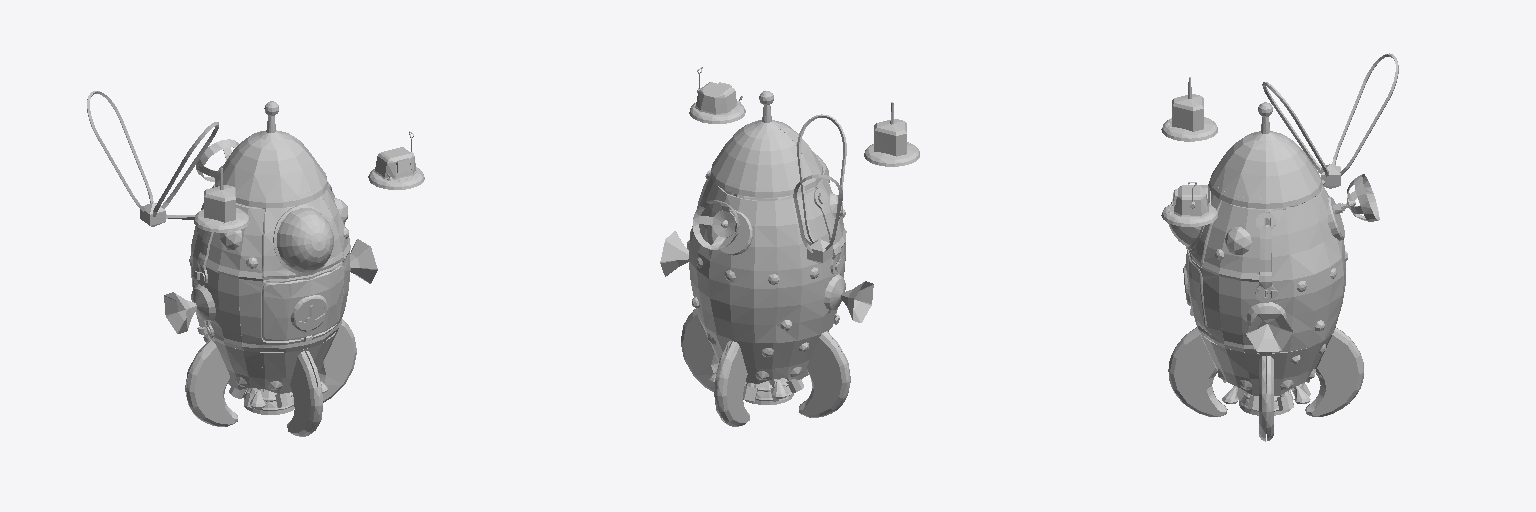
Rendered from S.S. Dolphin.obj.
The picture shows the model from 3 angles: view 1: azimuth 30°, elevation 25°; view 2: azimuth 150°, elevation 25°; view 3: azimuth 270°, elevation 25°; orthographic projection.
Visible parts, largest first — view 1: S.S._Dolphin_Bowsprit_3, S.S._Dolphin_part.007, S.S._Dolphin_part.010, S.S._Dolphin_part.003, S.S._Dolphin_part.009, S.S._Dolphin_Omega_Stablizer, S.S._Dolphin_Radiation_Canopy, S.S._Dolphin_part.005, S.S._Dolphin_part.006, S.S._Dolphin_part.002, S.S._Dolphin_Interstellar_Radio, S.S._Dolphin_Ionium_Jet_1 (+12 smaller); view 2: S.S._Dolphin_part.004, S.S._Dolphin_part.010, S.S._Dolphin_Bowsprit_4.001, S.S._Dolphin_Omega_Stablizer, S.S._Dolphin_Interstellar_Radio, S.S._Dolphin_Ionium_Jet_1, S.S._Dolphin_Whimsical_Radar_5, S.S._Dolphin_Guard_Satellite_2, S.S._Dolphin_part.000, S.S._Dolphin_Ionium_jet_2, S.S._Dolphin_part.037, S.S._Dolphin_Whimsical_Radar_1 (+5 smaller); view 3: S.S._Dolphin_part.004, S.S._Dolphin_part.010, S.S._Dolphin_part.003, S.S._Dolphin_Bowsprit_3, S.S._Dolphin_part.009, S.S._Dolphin_Bowsprit_4.001, S.S._Dolphin_part.005, S.S._Dolphin_Ionium_jet_2, S.S._Dolphin_Interstellar_Radio, S.S._Dolphin_part.000, S.S._Dolphin_part.006, S.S._Dolphin_Guard_Satellite_2 (+9 smaller).
Boxes of the visible parts, <box> form: S.S._Dolphin_Bowsprit_3: <box>226,133,324,198</box>; S.S._Dolphin_part.007: <box>262,266,344,340</box>; S.S._Dolphin_part.010: <box>203,325,354,432</box>; S.S._Dolphin_part.003: <box>205,186,350,281</box>; S.S._Dolphin_part.009: <box>226,319,356,436</box>; S.S._Dolphin_Omega_Stablizer: <box>185,340,237,426</box>; S.S._Dolphin_Radiation_Canopy: <box>277,208,333,272</box>; S.S._Dolphin_part.005: <box>200,267,337,350</box>; S.S._Dolphin_part.006: <box>239,252,350,351</box>; S.S._Dolphin_part.002: <box>262,196,343,279</box>; S.S._Dolphin_Interstellar_Radio: <box>368,131,424,189</box>; S.S._Dolphin_Ionium_Jet_1: <box>164,284,215,333</box>; S.S._Dolphin_part.004: <box>687,170,839,342</box>; S.S._Dolphin_part.010: <box>683,314,828,426</box>; S.S._Dolphin_Bowsprit_4.001: <box>713,125,811,187</box>; S.S._Dolphin_Omega_Stablizer: <box>799,331,850,417</box>; S.S._Dolphin_Interstellar_Radio: <box>689,67,745,123</box>; S.S._Dolphin_Ionium_Jet_1: <box>824,274,873,322</box>; S.S._Dolphin_Whimsical_Radar_5: <box>692,200,739,249</box>; S.S._Dolphin_Guard_Satellite_2: <box>874,119,906,156</box>; S.S._Dolphin_part.000: <box>710,153,823,197</box>; S.S._Dolphin_Ionium_jet_2: <box>660,231,688,276</box>; S.S._Dolphin_part.037: <box>797,114,846,243</box>; S.S._Dolphin_Whimsical_Radar_1: <box>711,210,752,255</box>; S.S._Dolphin_part.004: <box>1267,186,1347,352</box>; S.S._Dolphin_part.010: <box>1174,327,1363,416</box>; S.S._Dolphin_part.003: <box>1189,201,1265,281</box>; S.S._Dolphin_Bowsprit_3: <box>1212,132,1277,199</box>; S.S._Dolphin_part.009: <box>1168,327,1273,441</box>; S.S._Dolphin_Bowsprit_4.001: <box>1266,136,1318,199</box>; S.S._Dolphin_part.005: <box>1219,276,1264,352</box>; S.S._Dolphin_Ionium_jet_2: <box>1246,302,1292,351</box>; S.S._Dolphin_Interstellar_Radio: <box>1161,182,1217,226</box>; S.S._Dolphin_part.000: <box>1208,171,1322,208</box>; S.S._Dolphin_part.006: <box>1191,260,1224,347</box>; S.S._Dolphin_Guard_Satellite_2: <box>1172,94,1203,131</box>.
Size of the model in its own units: 10.99 by 13.75 by 9.41.